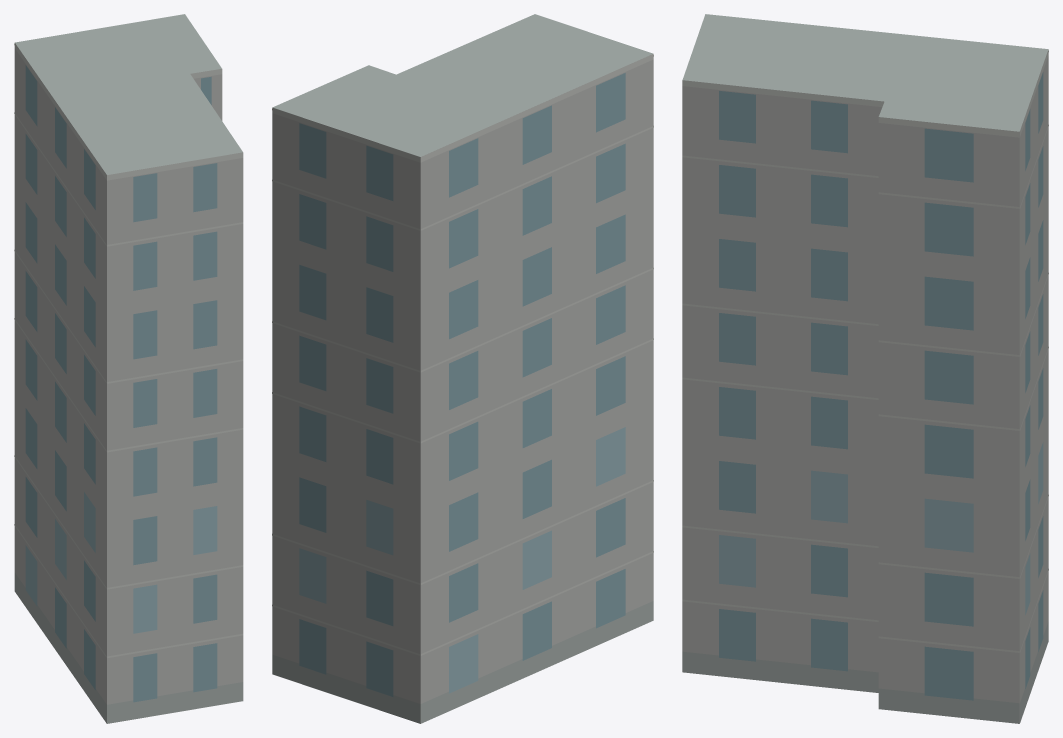
Rendered from survey-upis-32796188.glb.
3 renders of one model, left to right at view 1: azimuth 30°, elevation 25°; view 2: azimuth 150°, elevation 25°; view 3: azimuth 270°, elevation 25°, orthographic. The views are drawn at different scales.
Visible parts, largest first — view 1: survey-upis-32796188.tmp; view 2: survey-upis-32796188.tmp; view 3: survey-upis-32796188.tmp.
Boxes of the visible parts, left/top/right/bottom form: survey-upis-32796188.tmp: left=14, top=14, right=243, bottom=723; survey-upis-32796188.tmp: left=272, top=14, right=653, bottom=723; survey-upis-32796188.tmp: left=682, top=14, right=1048, bottom=723.
Size of the model in its own units: 10.43 by 24.4 by 13.7.
